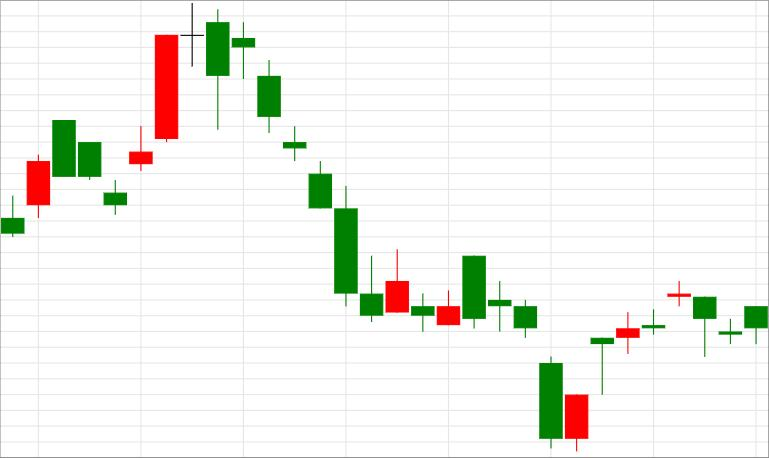inverse_hammer_rise: (232, 23, 383, 323)
